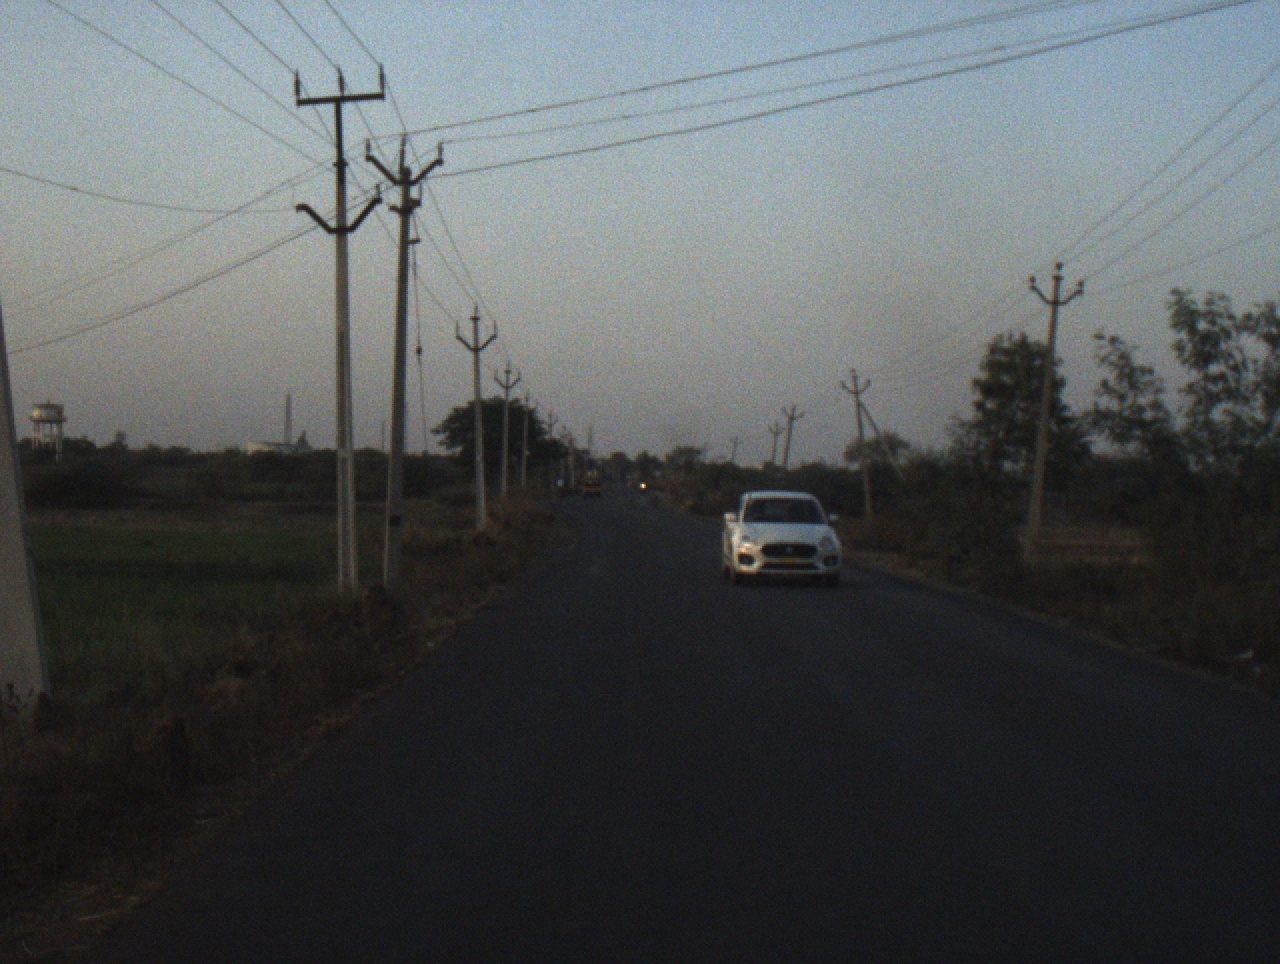autorickshaw: (577, 469, 604, 501)
bicycle: (559, 487, 565, 500)
car: (715, 486, 848, 592)
rider: (555, 476, 562, 489)
vehicle fallback: (629, 476, 650, 492)
